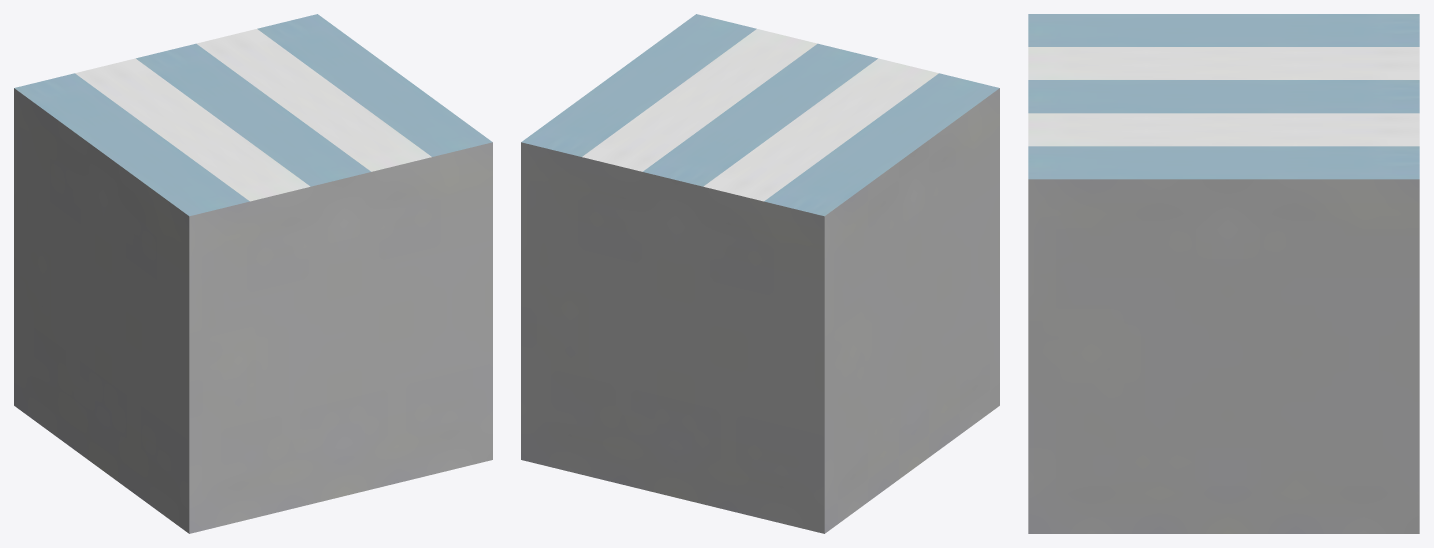
3 views of the same model, side by side, from view 1: azimuth 30°, elevation 25°; view 2: azimuth 150°, elevation 25°; view 3: azimuth 270°, elevation 25° (orthographic). The views are drawn at different scales.
Visible parts, largest first — view 1: Cube_01; view 2: Cube_01; view 3: Cube_01.
Part boxes in pixels (x1,y1,x2,y2): Cube_01: (14, 14, 492, 533); Cube_01: (521, 14, 999, 533); Cube_01: (1028, 14, 1419, 533).
Bounding box in the file's own units: 24 × 24 × 24.
